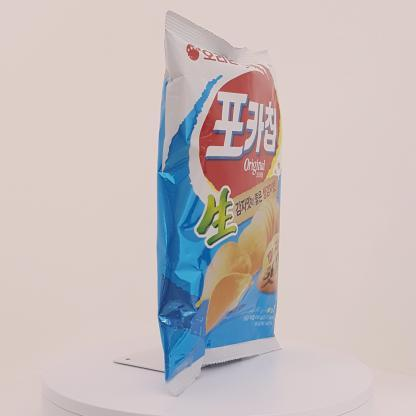Plastic Packaging: (138, 6, 304, 398)
